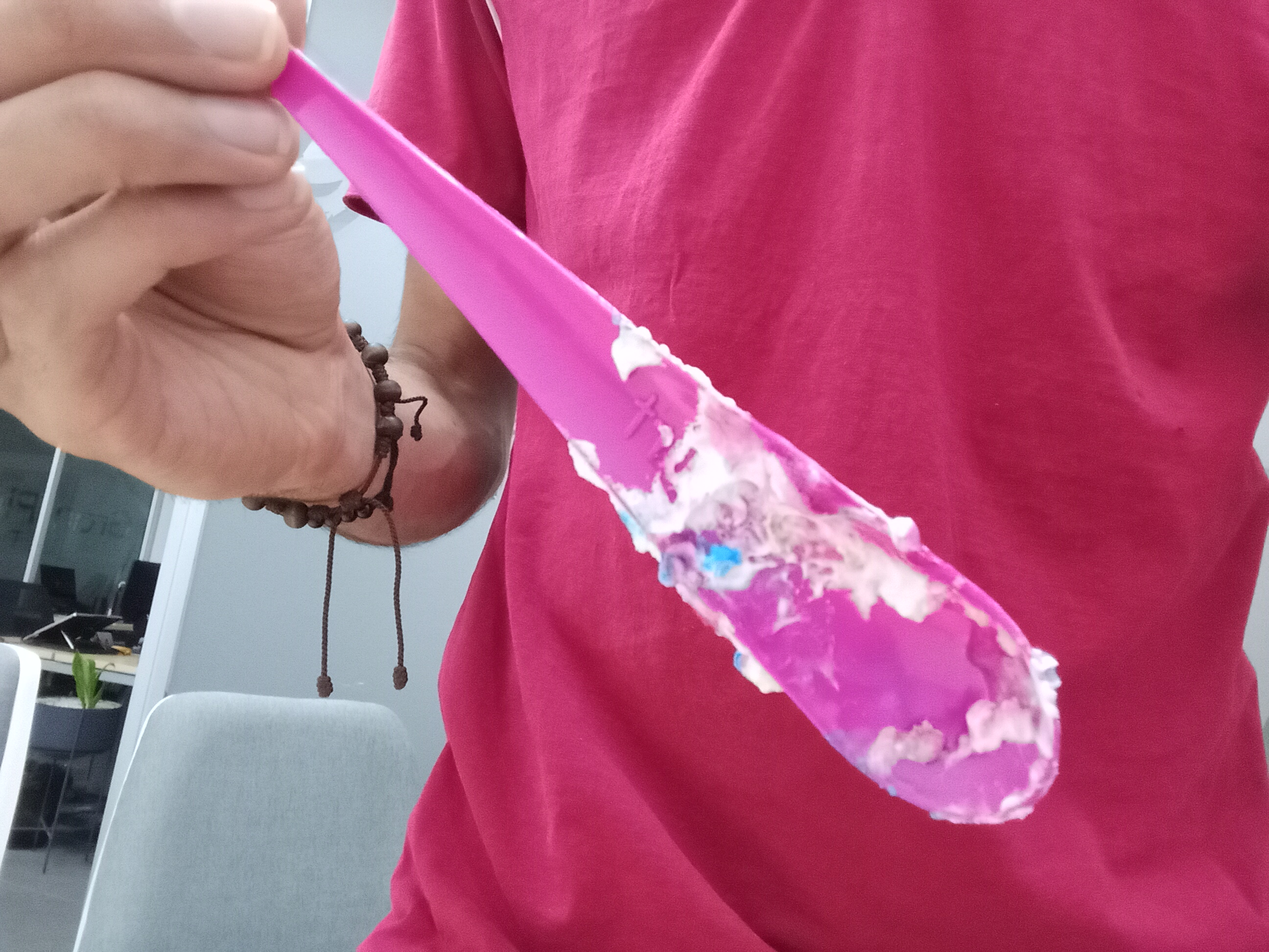Ordinario: (280, 42, 1065, 829)
